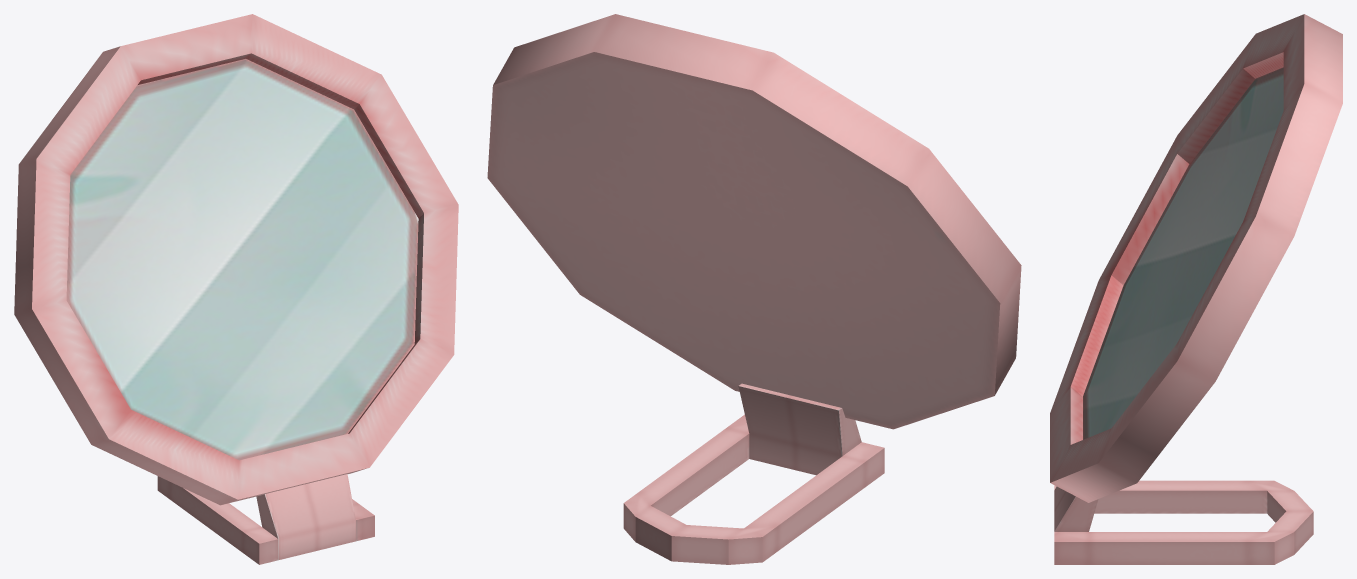
The model's file is NetCafe_Mini Mirror.fbx.
The picture shows the model from 3 angles, left to right: view 1: azimuth 30°, elevation 25°; view 2: azimuth 150°, elevation 25°; view 3: azimuth 270°, elevation 25°; orthographic projection. The views are drawn at different scales.
Parts seen in each view (by area): view 1: Cylinder002; view 2: Cylinder002; view 3: Cylinder002.
Boxes of the visible parts, bbox=[...] form: Cylinder002: bbox=[14, 14, 458, 564]; Cylinder002: bbox=[487, 14, 1021, 564]; Cylinder002: bbox=[1050, 14, 1342, 564].
Size of the model in its own units: 0.2111 by 0.2081 by 0.1156.
Materials: 1 (1 with a texture image).
